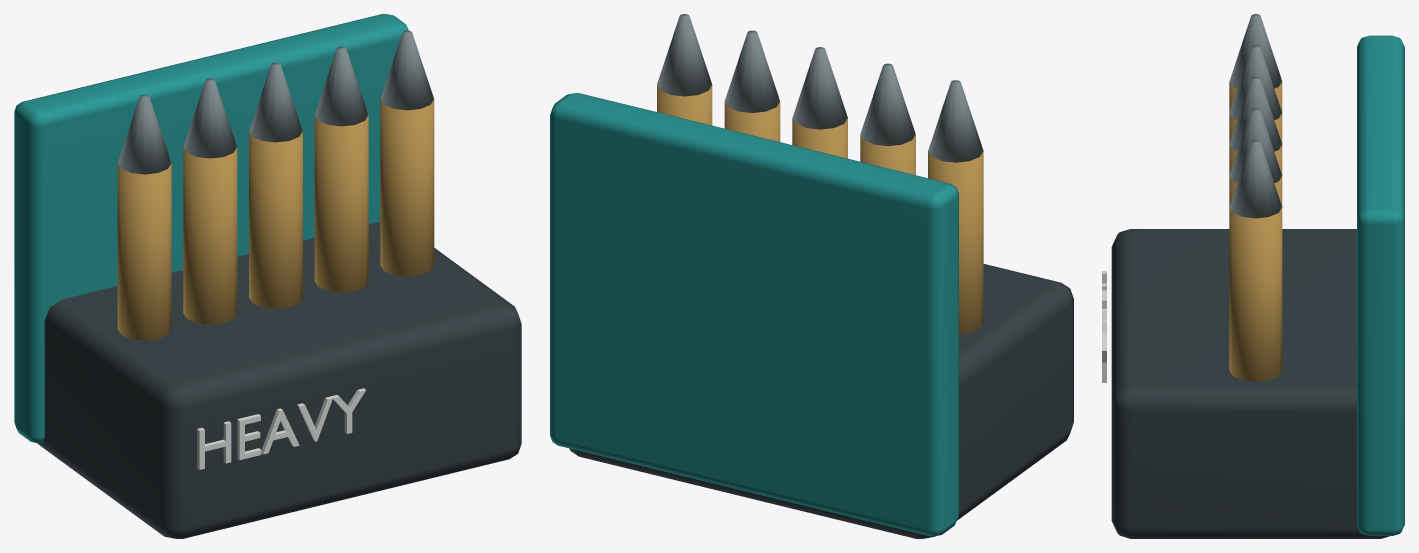
The model's file is ammo_heavy.glb.
3 renders of one model, left to right at view 1: azimuth 30°, elevation 25°; view 2: azimuth 150°, elevation 25°; view 3: azimuth 270°, elevation 25°, orthographic. The views are drawn at different scales.
Parts seen in each view (by area): view 1: ammo_heavy; view 2: ammo_heavy; view 3: ammo_heavy.
Boxes of the visible parts, box(x1,y1,x2,y2) form: ammo_heavy: box(14, 14, 521, 538); ammo_heavy: box(550, 14, 1073, 538); ammo_heavy: box(1102, 14, 1404, 538).
Bounding box in the file's own units: 0.18 × 0.175 × 0.126.
